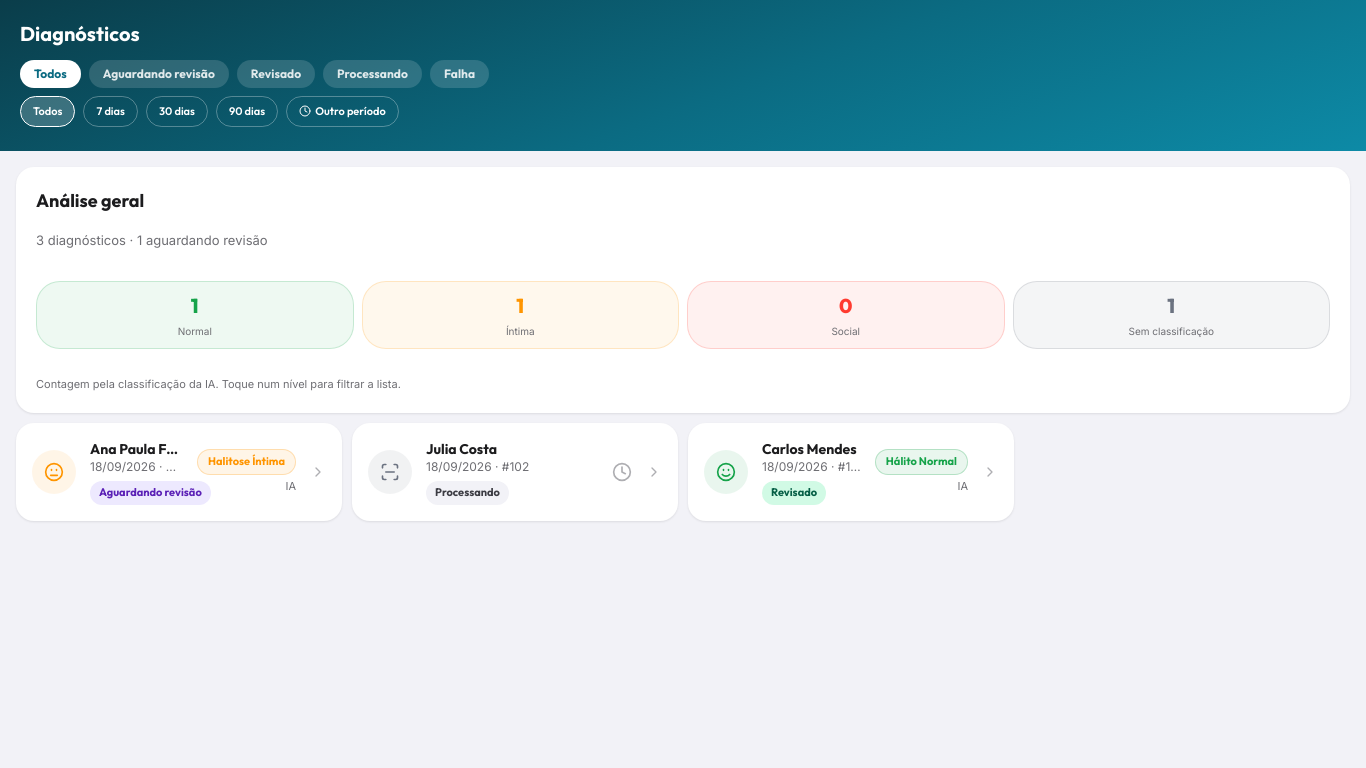
it: Fila de diagnósticos do admin › filtra os que ainda não têm classificação
Check: the text "Ana Paula Ferreira" is shown, box [90,439,183,459]
What coordinates should you click on to do the following:
click the button "1 Sem classificação"
I would click on:
 (1171, 315)
Its box is [1012,281,1330,349].
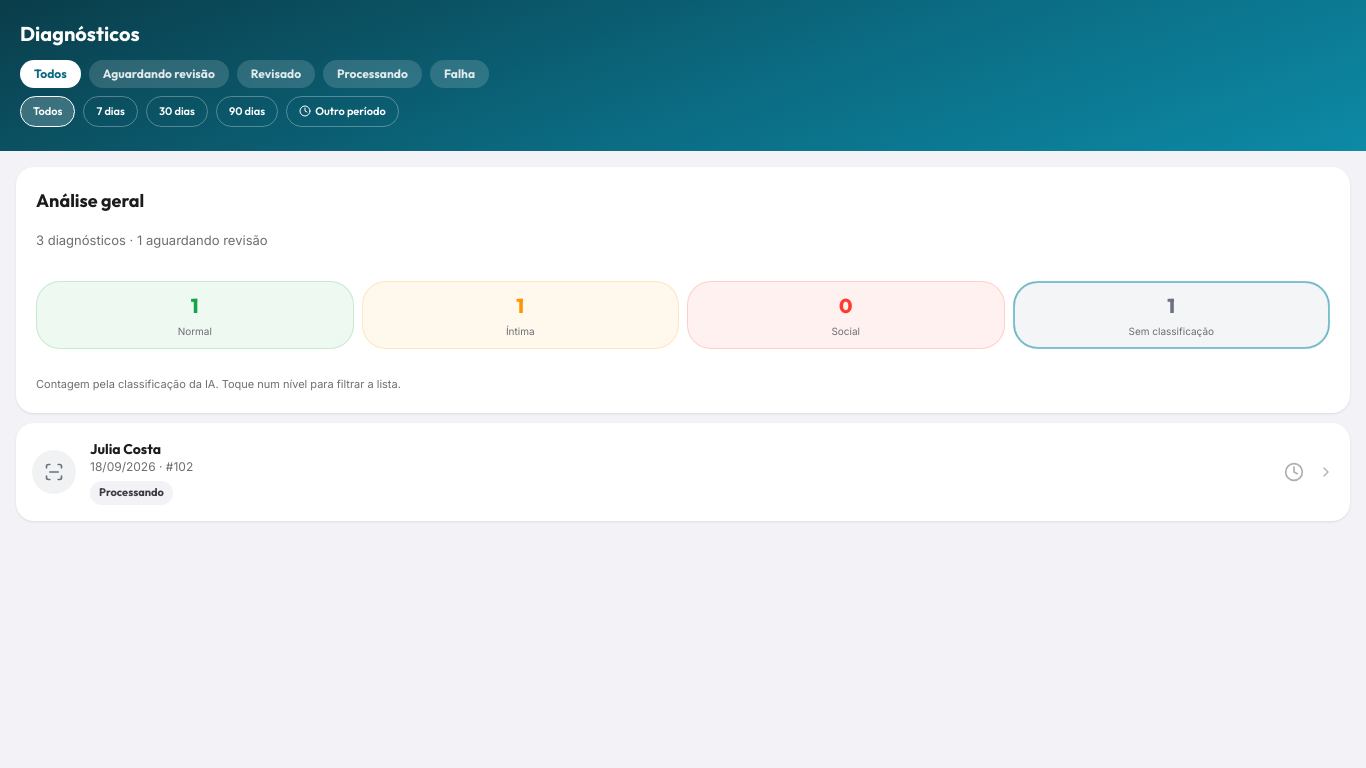
Check: the text "Julia Costa" is shown, box [90,440,161,458]
Check: the link "Ana Paula Ferreira" is gone
